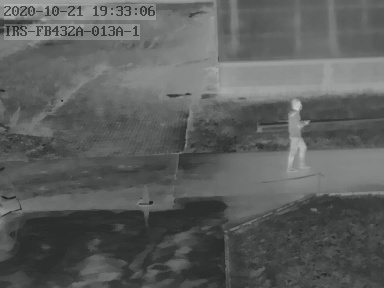person: (284, 97, 309, 172)
